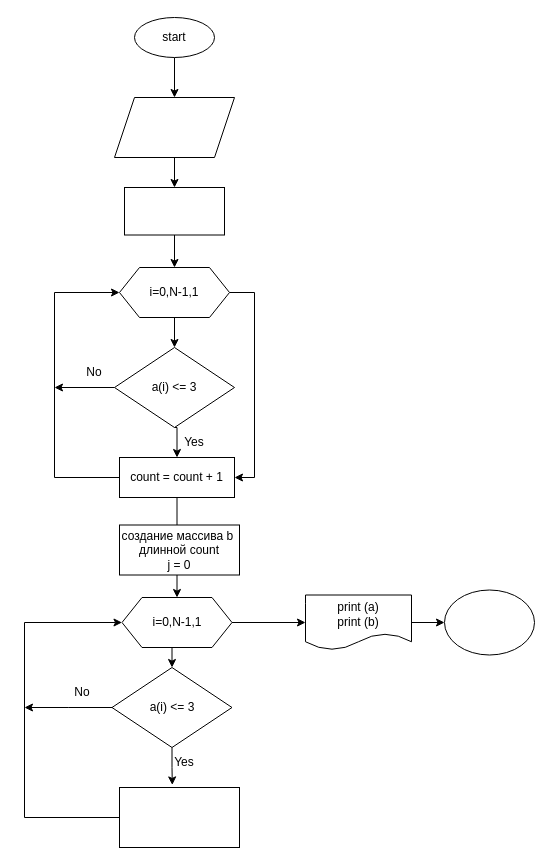
Image size: 552x865. Some labels were removed from this diagram. The shapes that lost their labels are listed below. From the top down, each one's centre as x and y in pixels, then its label:
At point 174,127: "ввод массива а длинны N".
At point 174,210: "count = 0".
At point 489,622: "end".
At point 179,817: "b(j) = a(i) j = j+1".
